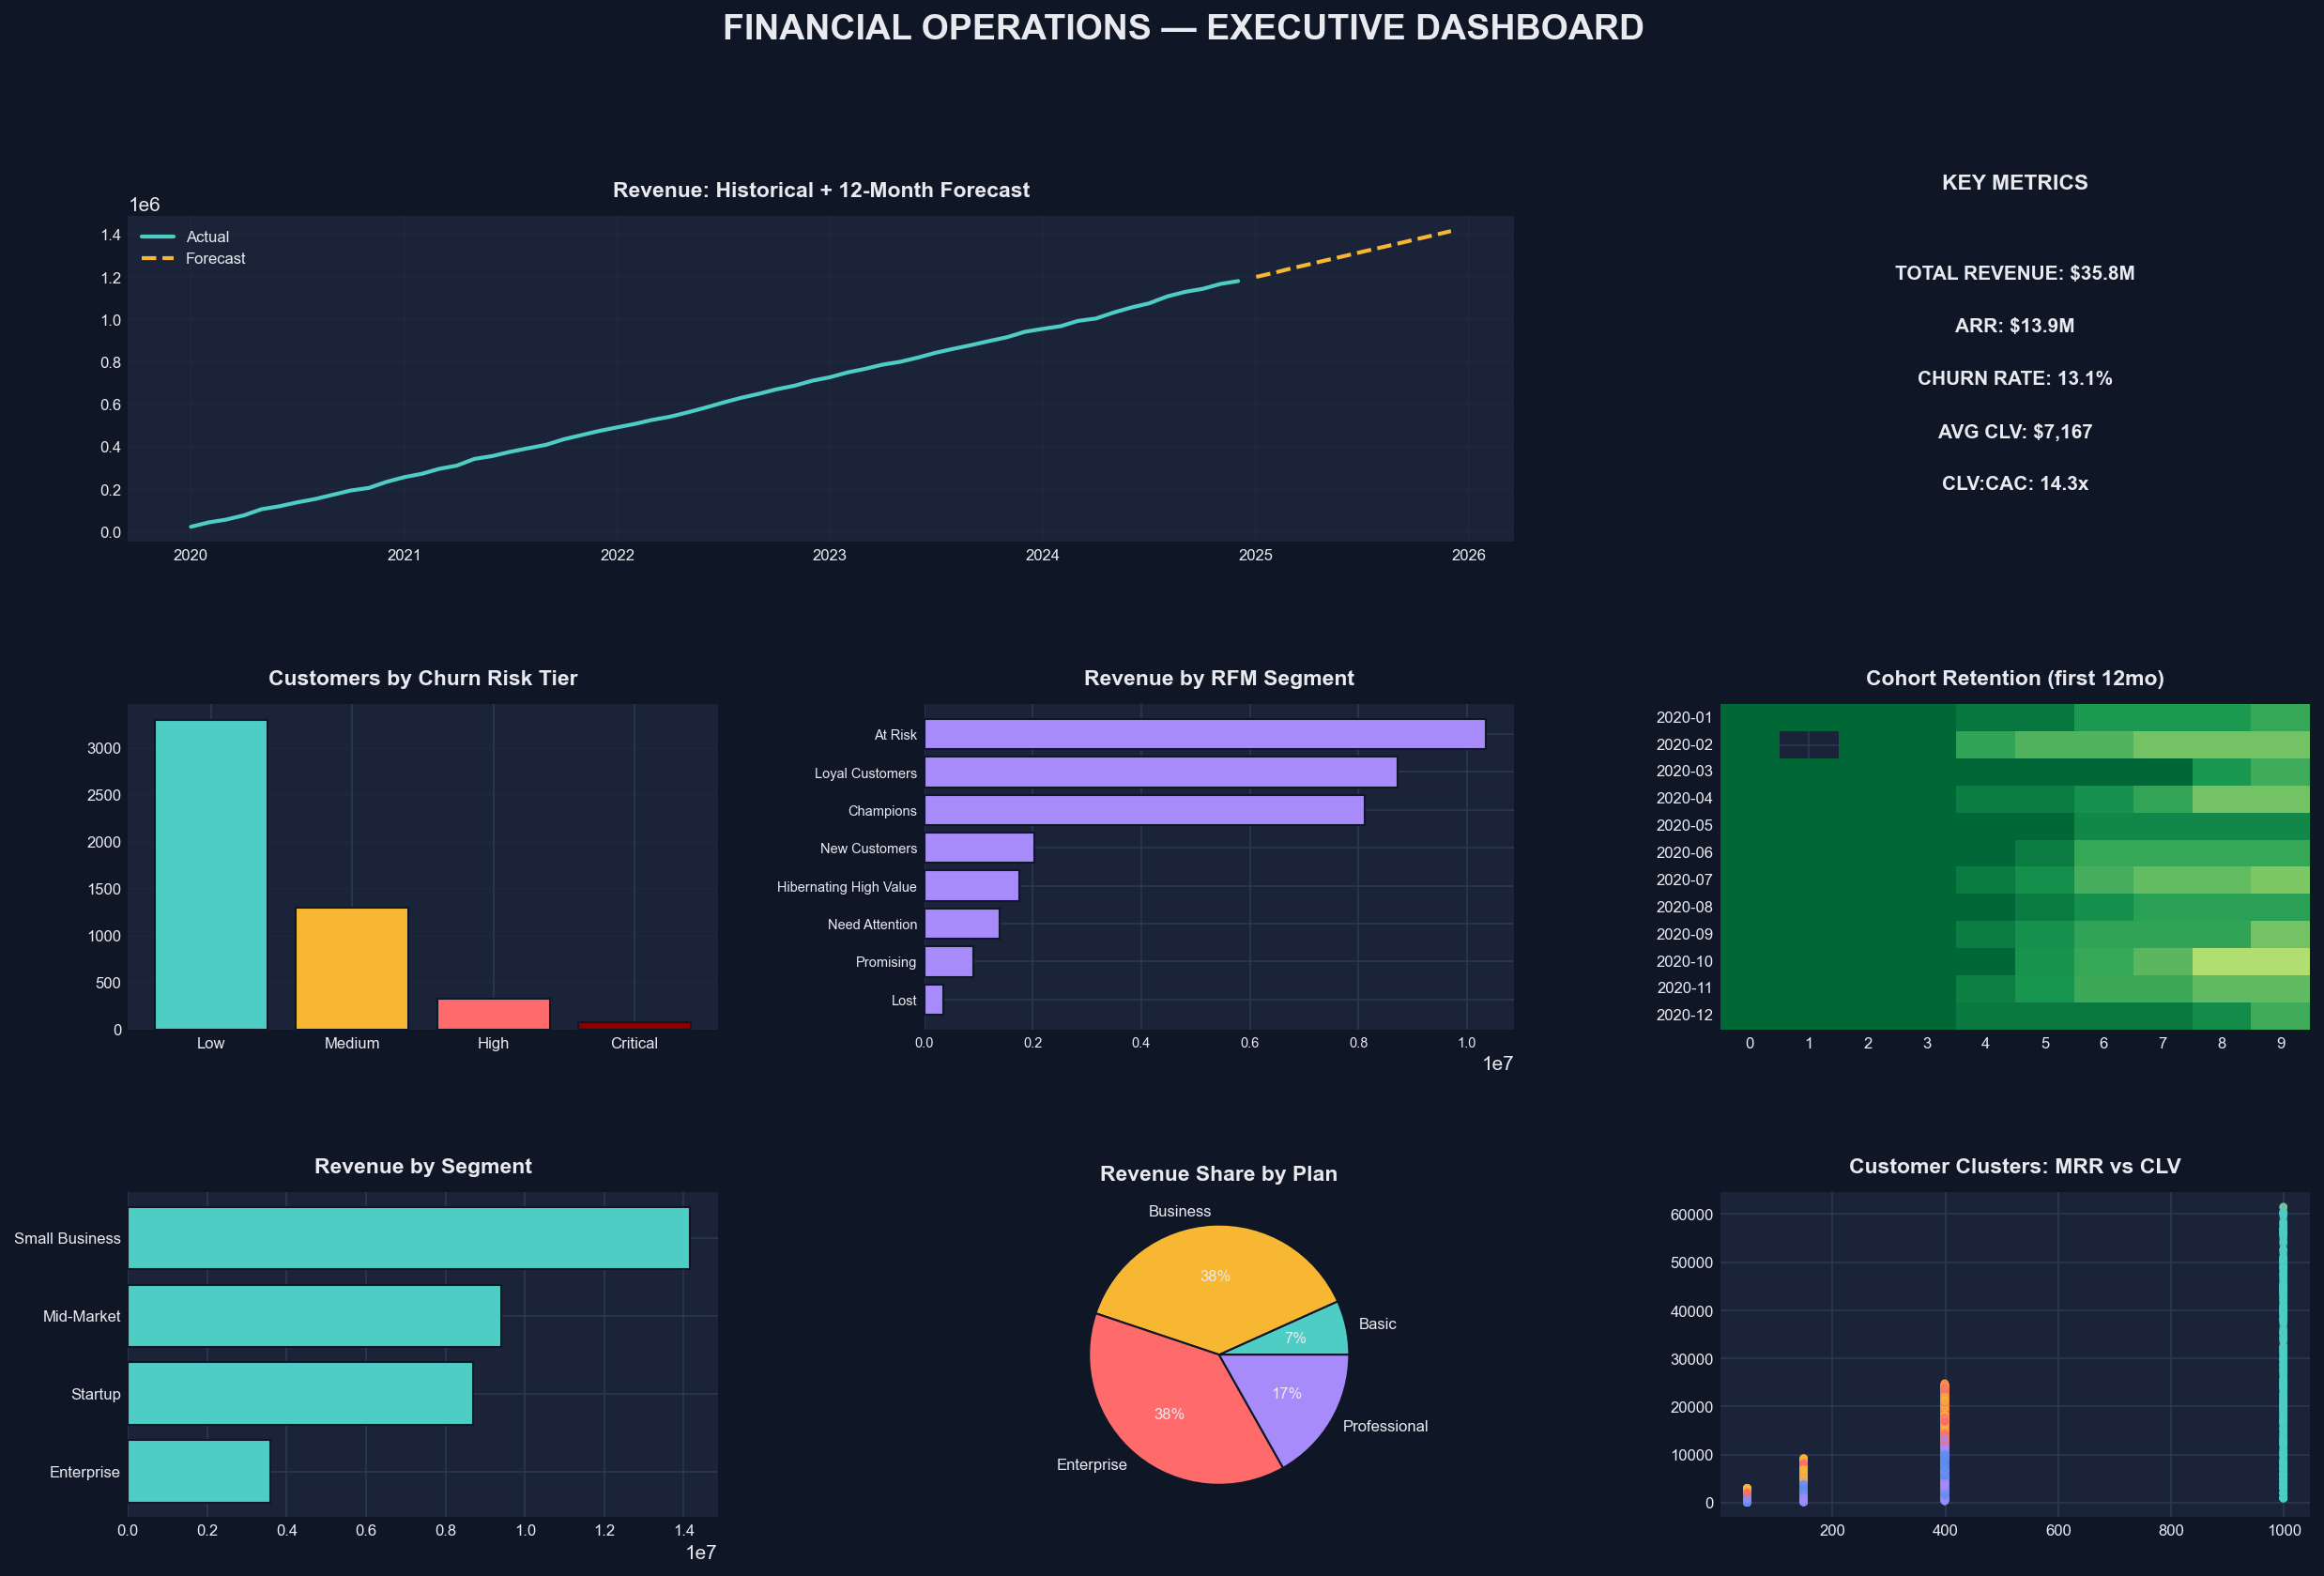

Layout of this report page (visuals, bound fields, positions):
{"tool":"powerbi","page":{"name":"Executive Overview","canvas":[1920,1080],"ordinal":0},"visuals":[{"type":"cardVisual","fields":{"Data":["customers_for_powerbi.Total Revenue"]},"box":[240,120,320,170],"z":0},{"type":"cardVisual","fields":{"Data":["customers_for_powerbi.ARR"]},"box":[1245,120,320,170],"z":1000},{"type":"cardVisual","fields":{"Data":["customers_for_powerbi.Churn Rate"]},"box":[910,120,320,170],"z":2000},{"type":"cardVisual","fields":{"Data":["customers_for_powerbi.Avg CLV"]},"box":[575,120,320,170],"z":3000},{"type":"cardVisual","fields":{"Data":["customers_for_powerbi.CLV to CAC"]},"box":[1580,120,320,170],"z":4000},{"type":"lineChart","title":"Revenue: Historical + 12-Month Forecast","fields":{"Category":["RevenueTimeline.Month"],"Y":["Sum(RevenueTimeline.Value)"],"Series":["RevenueTimeline.Series"]},"box":[240,330,820,320],"z":5000},{"type":"clusteredColumnChart","title":"Customers by Churn Risk Tier","fields":{"Category":["customers_for_powerbi.churn_risk_tier"],"Y":["CountNonNull(customers_for_powerbi.customer_id)"]},"box":[240.2,670.6,540,300.3],"z":6000},{"type":"clusteredBarChart","title":"Revenue Concentration by RFM Segment","fields":{"Category":["rfm_segmentation.customer_segment"],"Y":["Sum(rfm_segmentation.monetary)"]},"box":[1080,330,820,320],"z":7000},{"type":"scatterChart","title":"K-Means Clusters: MRR vs. Lifetime Value","fields":{"X":["Sum(customers_for_powerbi.mrr)"],"Y":["Sum(customers_for_powerbi.clv)"],"Series":["customers_for_powerbi.ml_cluster"],"Category":["rfm_segmentation.customer_id"]},"box":[800,670,540,300],"z":8000},{"type":"slicer","fields":{"Values":["customers_for_powerbi.segment"]},"box":[20,155,200,220],"z":9000},{"type":"slicer","fields":{"Values":["customers_for_powerbi.plan"]},"box":[20.5,390,200,220],"z":10000},{"type":"cardVisual","fields":{"Data":["customers_for_powerbi.KeyInsightsText"]},"box":[20,990,1880,70],"z":11000},{"type":"textbox","box":[20,20,1880,55],"z":12000},{"type":"textbox","box":[20,80,1880,30],"z":13000},{"type":"textbox","box":[20,120,200,30],"z":14000},{"type":"gauge","title":"Churn Rate vs. 10% Target","fields":{"Y":["customers_for_powerbi.Churn Rate"],"TargetValue":["customers_for_powerbi.ChurnTarget"],"MaxValue":["customers_for_powerbi.ChurnGaugeMax"]},"box":[1360,670,540,300],"z":15000},{"type":"slicer","fields":{"Values":["customers_for_powerbi.country"]},"box":[20,625,200,345],"z":16000}]}

Visuals, with their boxes on the page's 1920x1080 design canvas (x1, y1, x2, y2). These are canvas units, not pixel positions in the 2324x1576 screenshot, which may show the page scaled, cropped or inside an application window:
cardVisual - customers_for_powerbi.Total Revenue: [240, 120, 560, 290]
cardVisual - customers_for_powerbi.ARR: [1245, 120, 1565, 290]
cardVisual - customers_for_powerbi.Churn Rate: [910, 120, 1230, 290]
cardVisual - customers_for_powerbi.Avg CLV: [575, 120, 895, 290]
cardVisual - customers_for_powerbi.CLV to CAC: [1580, 120, 1900, 290]
"Revenue: Historical + 12-Month Forecast" lineChart: [240, 330, 1060, 650]
"Customers by Churn Risk Tier" clusteredColumnChart: [240, 671, 780, 971]
"Revenue Concentration by RFM Segment" clusteredBarChart: [1080, 330, 1900, 650]
"K-Means Clusters: MRR vs. Lifetime Value" scatterChart: [800, 670, 1340, 970]
slicer - customers_for_powerbi.segment: [20, 155, 220, 375]
slicer - customers_for_powerbi.plan: [20, 390, 220, 610]
cardVisual - customers_for_powerbi.KeyInsightsText: [20, 990, 1900, 1060]
textbox: [20, 20, 1900, 75]
textbox: [20, 80, 1900, 110]
textbox: [20, 120, 220, 150]
"Churn Rate vs. 10% Target" gauge: [1360, 670, 1900, 970]
slicer - customers_for_powerbi.country: [20, 625, 220, 970]
